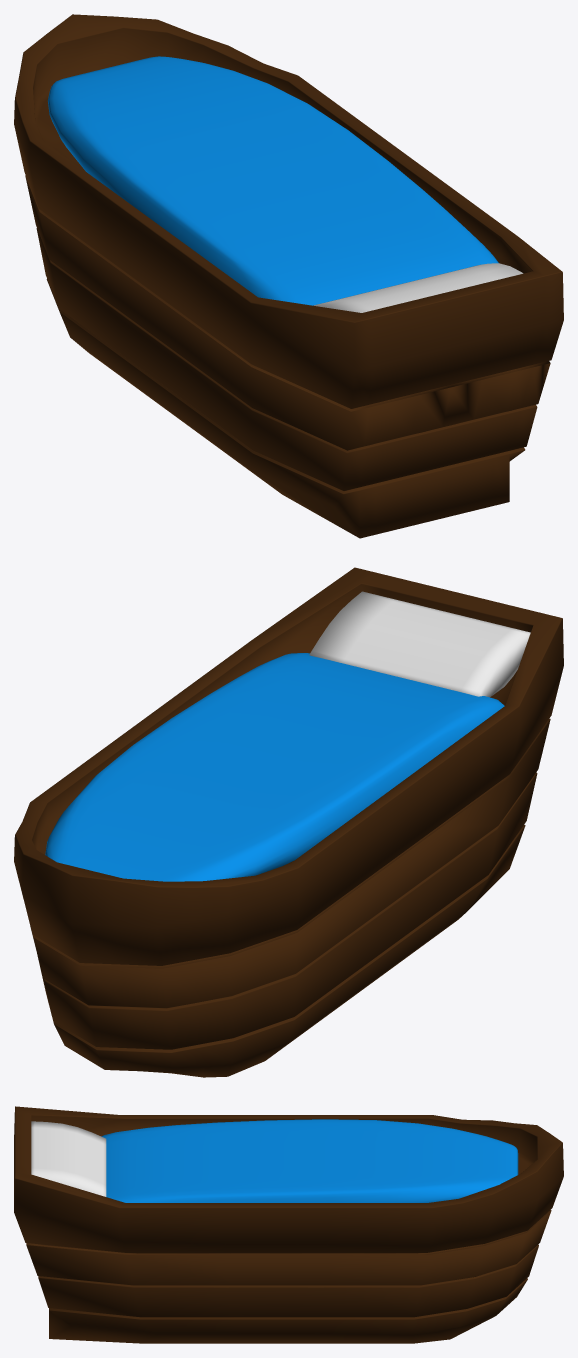
File: Bed.fbx
3 renders of one model, top to bottom at view 1: azimuth 30°, elevation 25°; view 2: azimuth 150°, elevation 25°; view 3: azimuth 270°, elevation 25°, orthographic. The views are drawn at different scales.
Parts seen in each view (by area): view 1: Bed, Sheets, Pillow; view 2: Bed, Sheets, Pillow; view 3: Bed, Sheets, Pillow.
Part boxes in pixels (box(x1,y1,x2,y2)): Bed: box(14, 14, 563, 538); Sheets: box(48, 56, 498, 305); Pillow: box(313, 263, 523, 312); Bed: box(14, 567, 563, 1077); Sheets: box(45, 653, 504, 881); Pillow: box(309, 591, 530, 697); Bed: box(14, 1106, 563, 1343); Sheets: box(101, 1119, 518, 1202); Pillow: box(31, 1121, 106, 1196).
Size of the model in its own units: 83.5 by 71.29 by 208.
